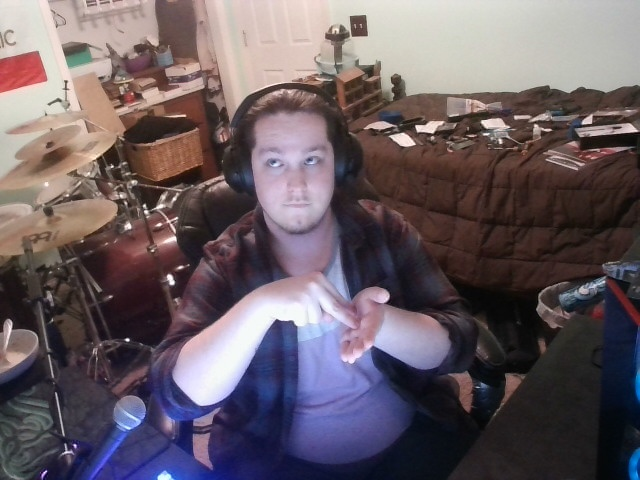fork: (256, 274, 398, 381)
